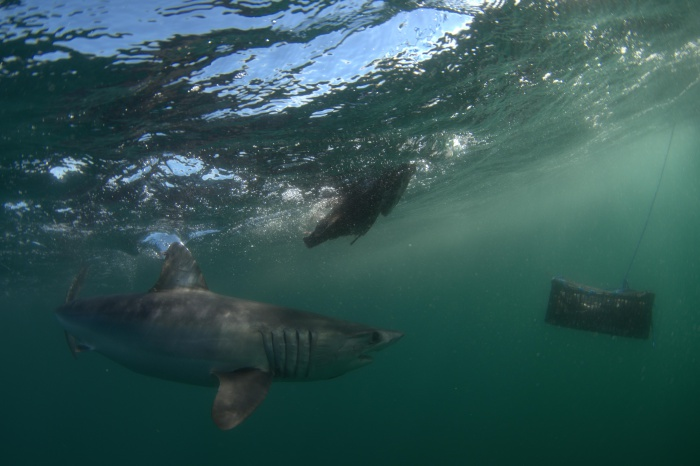Mako: (33, 241, 427, 436)
